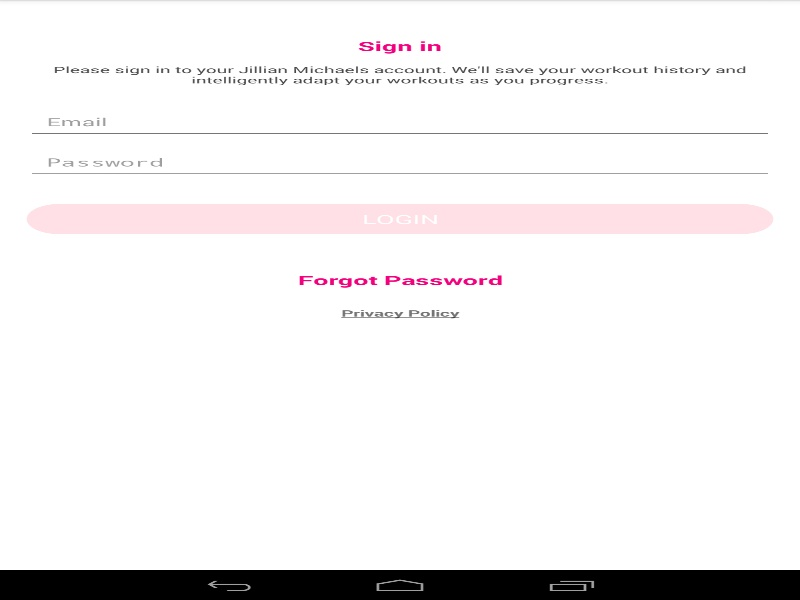Button: (26, 204, 773, 234)
Input: (26, 104, 773, 138), (26, 145, 773, 179)
